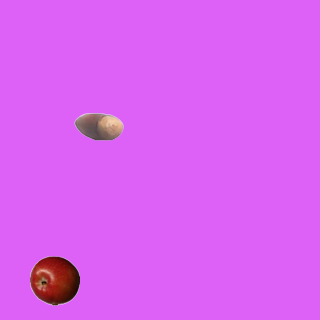Apple Braeburn: (29, 255, 79, 305)
Hazelnut: (73, 101, 123, 151)
